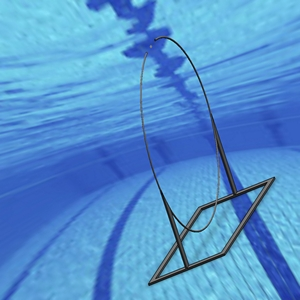circle: (137, 33, 277, 283)
